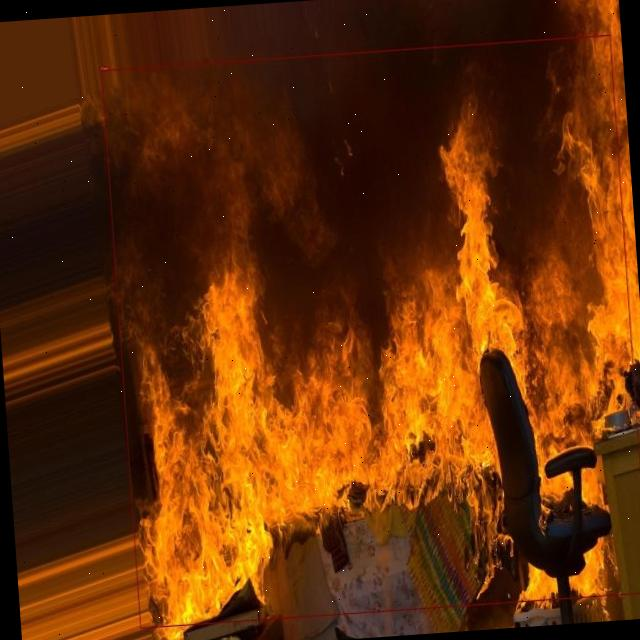fire: (101, 34, 640, 627)
